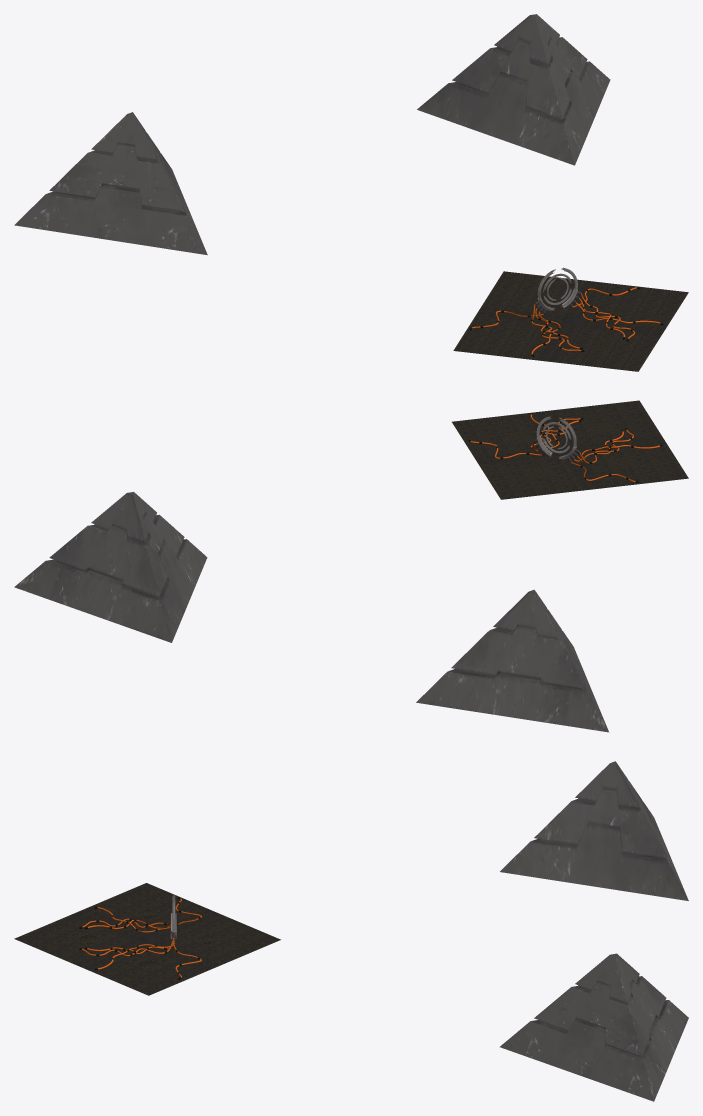
Rendered from podium-512.glb.
The picture shows the model from 3 angles, top to bottom: view 1: azimuth 30°, elevation 25°; view 2: azimuth 150°, elevation 25°; view 3: azimuth 270°, elevation 25°; orthographic projection. The views are drawn at different scales.
Visible parts, largest first — view 1: defaultMaterial (×3); view 2: defaultMaterial (×3); view 3: defaultMaterial (×3).
Part boxes in pixels (x1=…): defaultMaterial (×3): x1=14, y1=14, x2=688, y2=371; defaultMaterial (×3): x1=14, y1=400, x2=688, y2=732; defaultMaterial (×3): x1=14, y1=761, x2=688, y2=1101.
Bounding box in the file's own units: 41.65 × 6.87 × 41.74.
Materials: 7 (6 with a texture image).
